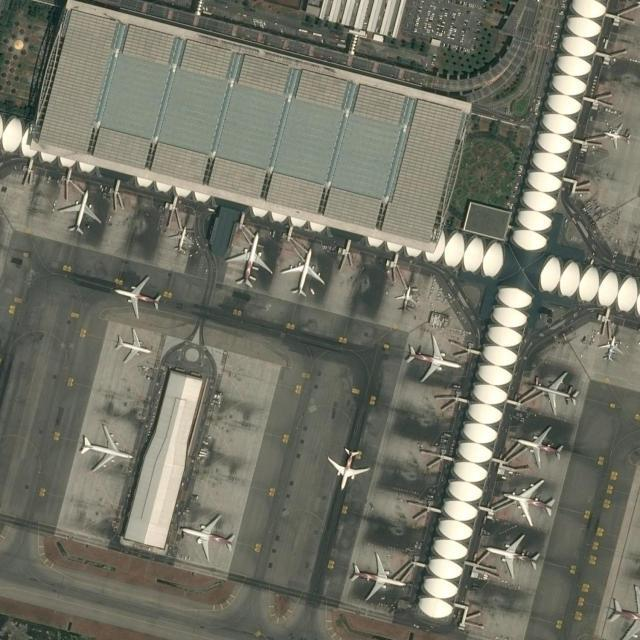Aircraft: (407, 330, 461, 383), (226, 227, 272, 289), (181, 508, 235, 560), (349, 551, 405, 601), (485, 532, 543, 580), (282, 241, 327, 299), (79, 422, 133, 470), (501, 476, 554, 524), (114, 272, 162, 318), (533, 369, 578, 414), (325, 442, 369, 488), (61, 188, 103, 236), (517, 426, 562, 470), (606, 582, 638, 640), (115, 328, 151, 361), (594, 329, 624, 361), (169, 221, 194, 252), (605, 123, 631, 147), (396, 287, 416, 313)
